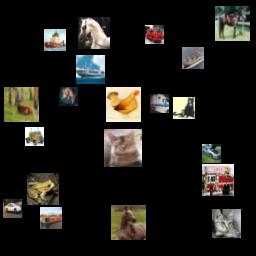automobile: (202, 144, 221, 163), (3, 199, 22, 218)
bird: (106, 87, 141, 122)
cat: (104, 129, 142, 167), (212, 209, 241, 238), (173, 97, 195, 119), (59, 87, 78, 106)
deer: (4, 87, 39, 122)
frog: (27, 173, 59, 205)
ship: (76, 55, 105, 84), (40, 207, 62, 229), (44, 29, 66, 51), (182, 47, 204, 69)
truck: (202, 164, 234, 196), (145, 25, 164, 44), (150, 94, 169, 113), (25, 127, 44, 146)
